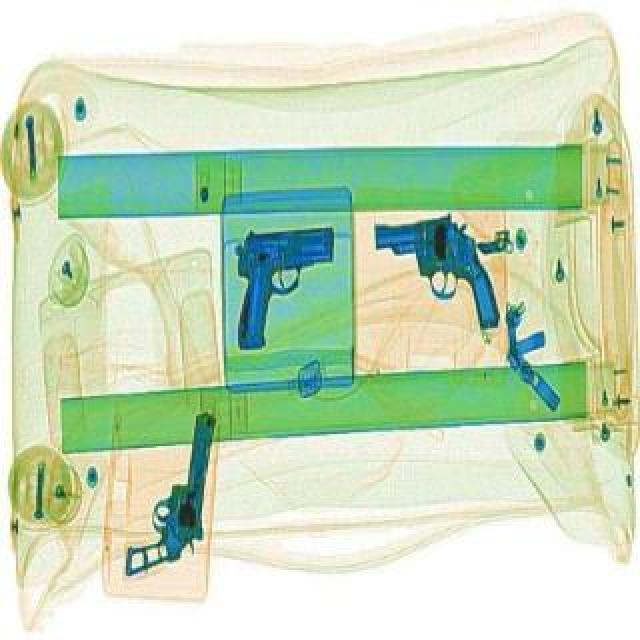gun: (366, 194, 506, 348), (122, 406, 214, 580), (238, 224, 334, 348)
